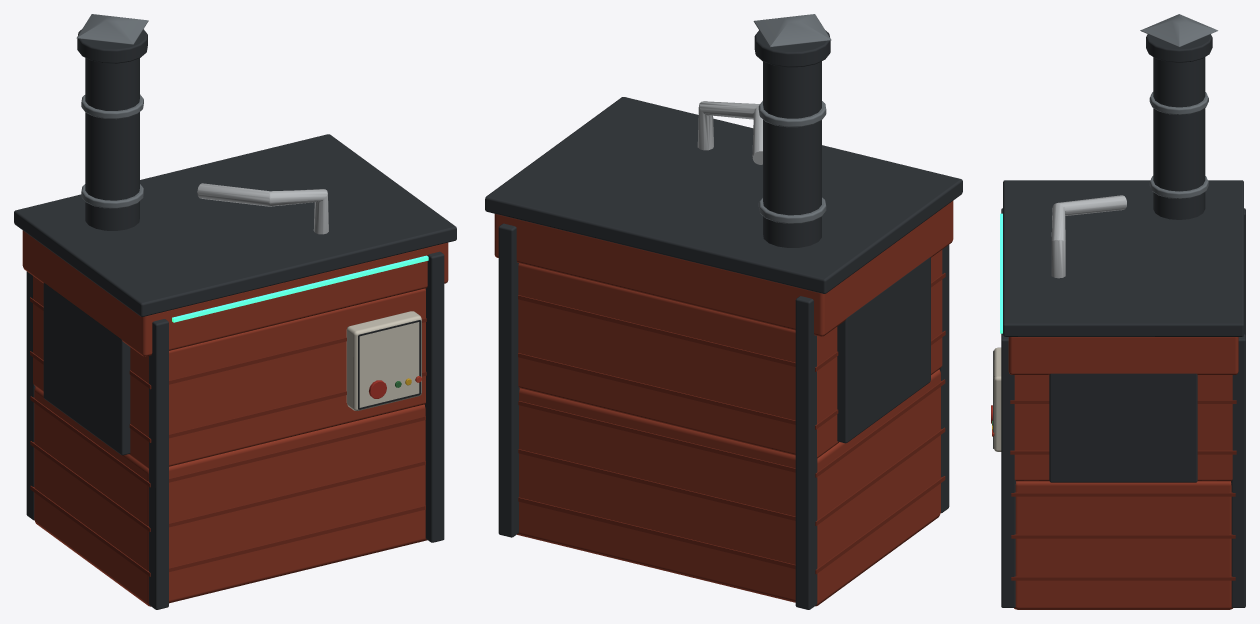
File: lc_oven.glb
3 views of the same model, side by side, from view 1: azimuth 30°, elevation 25°; view 2: azimuth 150°, elevation 25°; view 3: azimuth 270°, elevation 25° (orthographic). The views are drawn at different scales.
Visible parts, largest first — view 1: block.001, block.012, block.008, block.011, block.013, cyl.001, block.034, block.015, block.018, pipe, block.014, block.004 (+10 smaller); view 2: block.001, block.012, block.005, block.011, block.013, cyl.001, block.014, block.017, block.015, block.002, block.003, block.004 (+8 smaller); view 3: block.012, block.001, block.016, block.011, cyl.001, block.018, block.017, block.005, block.008, pipe, cyl.002, cyl.003 (+7 smaller).
Boxes of the visible parts, x1,y1,x2,y2 form: block.001: (34,387,427,606); block.012: (14,134,456,316); block.008: (128,288,425,469); block.011: (22,230,448,356); block.013: (43,283,130,455); cyl.001: (85,58,139,230); block.034: (346,311,421,410); block.015: (149,319,168,609); block.018: (424,251,444,542); pipe: (197,183,328,234); block.014: (26,271,35,520); block.004: (30,396,425,487); block.001: (517,369,940,606); block.012: (485,97,962,293); block.005: (518,263,838,458); block.011: (494,201,953,336); block.013: (837,257,930,443); cyl.001: (763,61,821,247); block.014: (795,296,817,609); block.017: (498,223,519,537); block.015: (939,245,949,513); block.002: (518,476,945,574); block.003: (518,427,945,525); block.004: (518,379,945,477); block.012: (1003,180,1243,336); block.001: (1014,481,1232,609); block.016: (1049,373,1197,482); block.011: (1008,337,1238,374); cyl.001: (1153,57,1205,219); block.018: (1001,334,1015,607); block.017: (1231,334,1245,607); block.005: (1197,375,1232,481); block.008: (1014,375,1049,481); pipe: (1051,195,1126,278); cyl.002: (1140,14,1217,47); cyl.003: (1146,34,1212,62).
Size of the model in its own units: 1.85 by 2.87 by 1.37.
